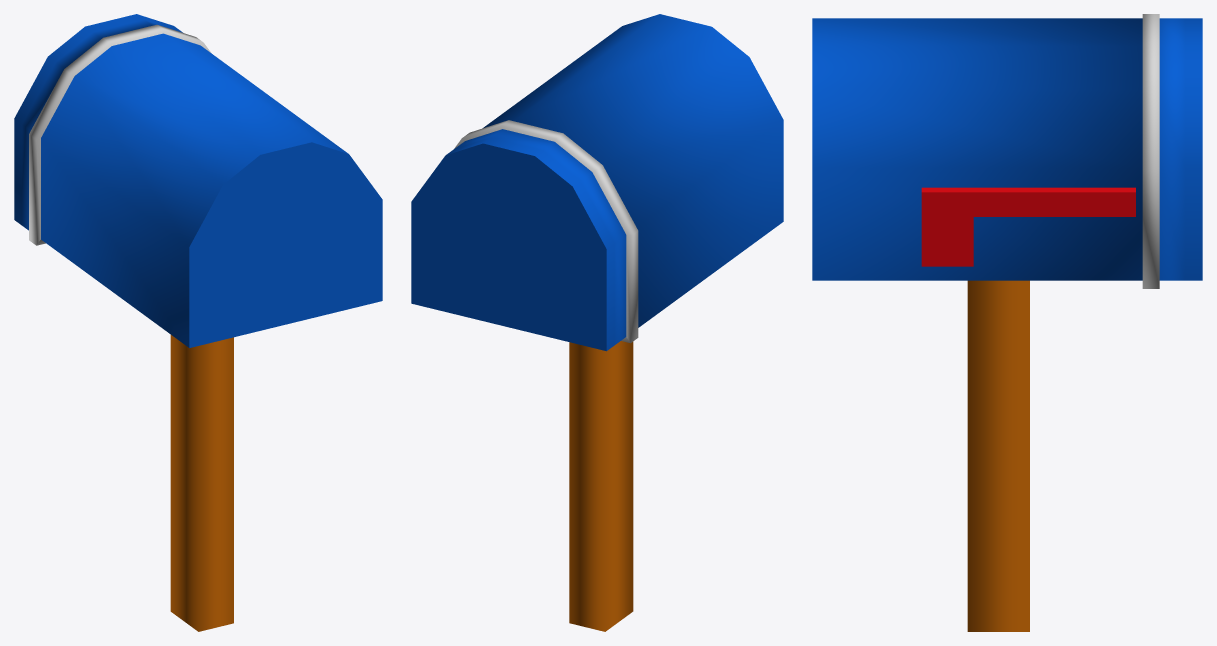
File: Mailbox.fbx
3 views of the same model, side by side, from view 1: azimuth 30°, elevation 25°; view 2: azimuth 150°, elevation 25°; view 3: azimuth 270°, elevation 25° (orthographic). The views are drawn at different scales.
Visible parts, largest first — view 1: Cube, Cube.002; view 2: Cube, Cube.002; view 3: Cube, Cube.001, Cube.002.
Part boxes in pixels (left/top/right/bottom): Cube: left=22, top=19, right=382, bottom=631; Cube.002: left=14, top=14, right=180, bottom=225; Cube: left=454, top=14, right=783, bottom=631; Cube.002: left=411, top=138, right=614, bottom=351; Cube: left=812, top=14, right=1185, bottom=631; Cube.001: left=921, top=187, right=1135, bottom=266; Cube.002: left=1185, top=18, right=1202, bottom=280.
Bounding box in the file's own units: 427 × 1054 × 628.
